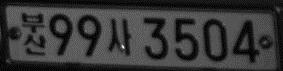0: (202, 18, 228, 63)
3: (142, 16, 169, 61)
4: (232, 19, 259, 62)
5: (174, 17, 199, 61)
9: (76, 14, 102, 56), (48, 12, 73, 55)
부산_V: (20, 11, 47, 56)
사: (107, 18, 133, 56)
